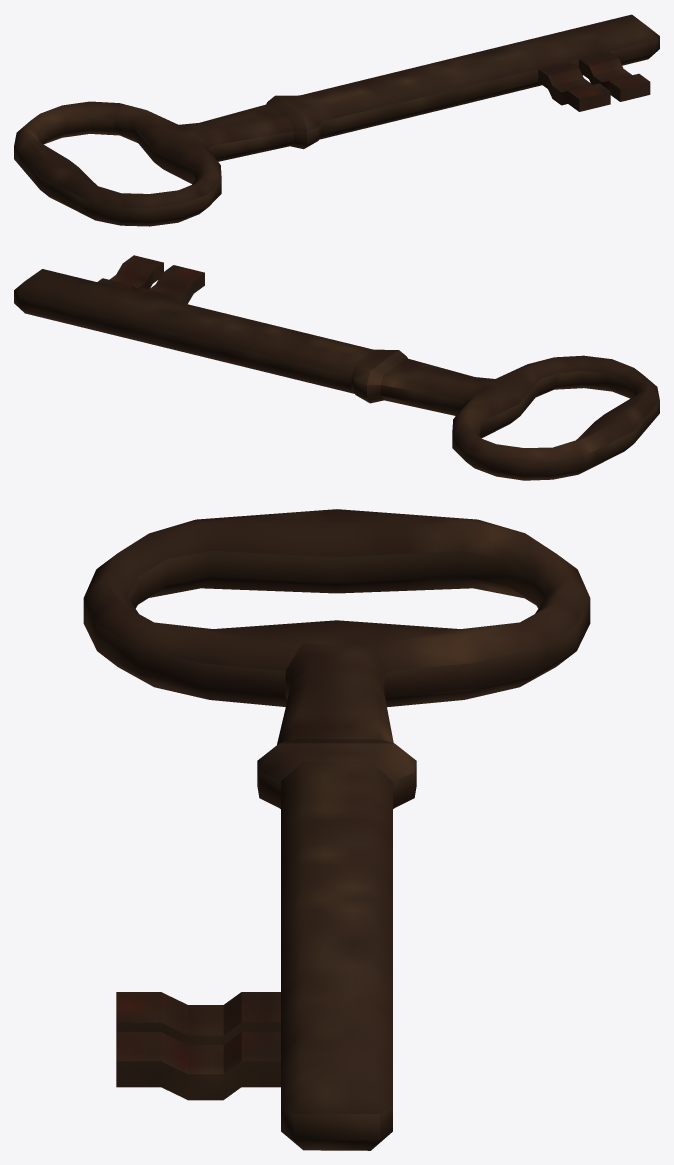
The model's file is key_mp_3_2.dae.
3 views of the same model, one above another, from view 1: azimuth 30°, elevation 25°; view 2: azimuth 150°, elevation 25°; view 3: azimuth 270°, elevation 25° (orthographic). The views are drawn at different scales.
Visible parts, largest first — view 1: key_mp_3_2; view 2: key_mp_3_2; view 3: key_mp_3_2.
Part boxes in pixels (box(x1,y1,x2,y2)): key_mp_3_2: box(14, 14, 659, 226); key_mp_3_2: box(14, 255, 659, 480); key_mp_3_2: box(83, 509, 590, 1150).
Bounding box in the file's own units: 0.1428 × 0.0514 × 0.00726.
1 material, 1 textured.
